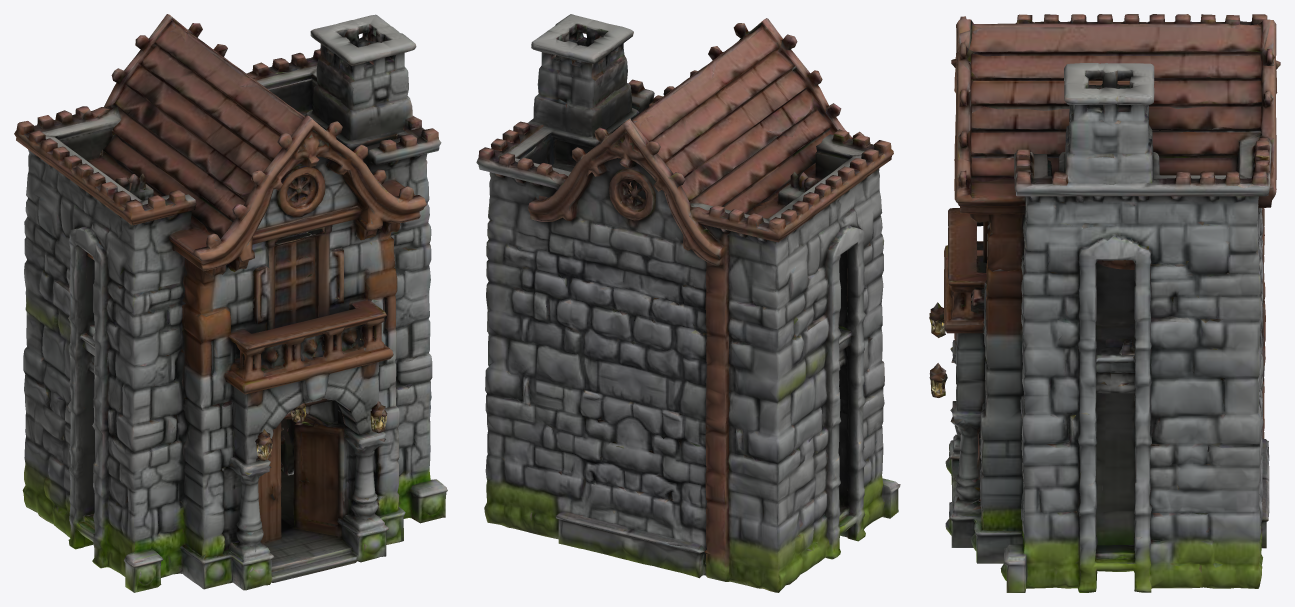
The model's file is Dwarven Building #11_final.glb.
3 renders of one model, left to right at view 1: azimuth 30°, elevation 25°; view 2: azimuth 150°, elevation 25°; view 3: azimuth 270°, elevation 25°, orthographic. The views are drawn at different scales.
Size of the model in its own units: 1.39 by 1.91 by 1.23.
1 material, 1 textured.
